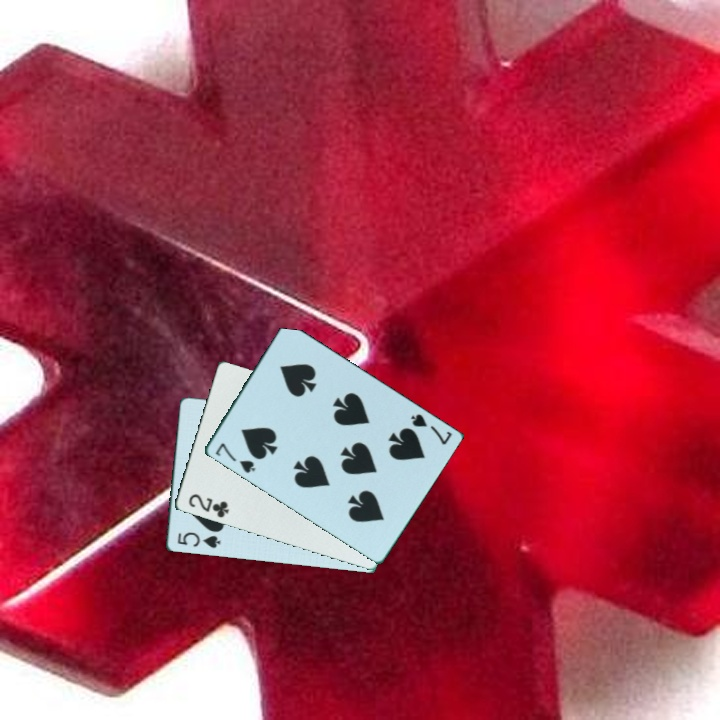2c: (185, 490, 232, 521)
5s: (174, 529, 223, 551)
7s: (406, 410, 454, 448), (211, 439, 258, 476)
